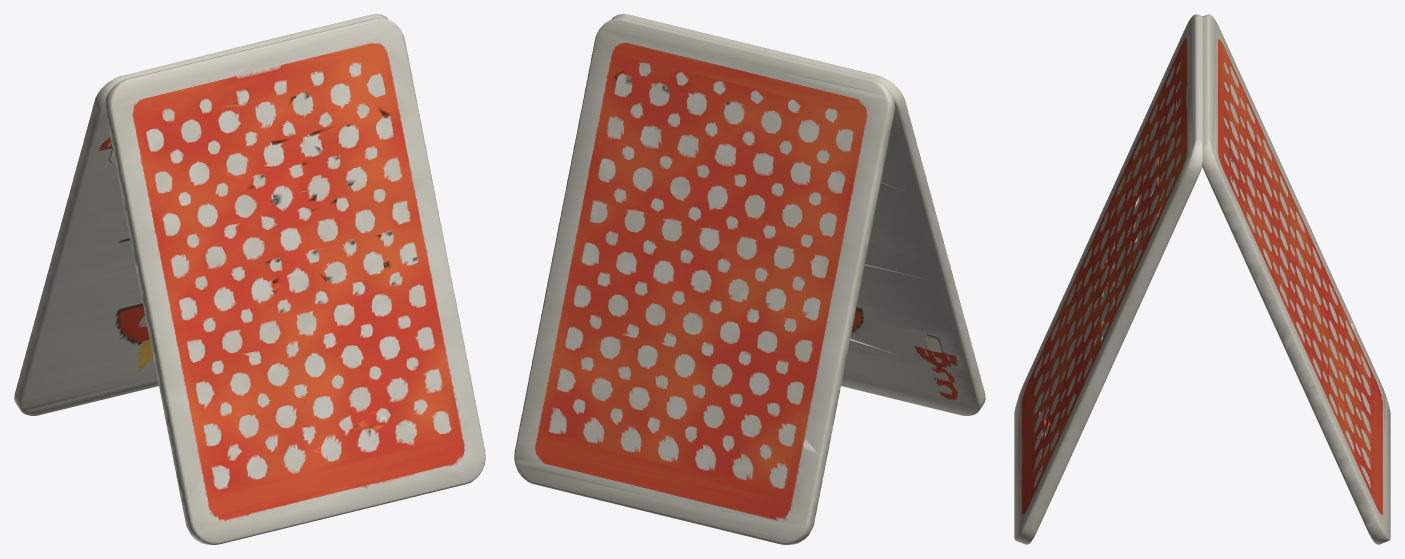
Rendered from card-house.glb.
The picture shows the model from 3 angles, left to right: view 1: azimuth 30°, elevation 25°; view 2: azimuth 150°, elevation 25°; view 3: azimuth 270°, elevation 25°; orthographic projection.
Visible parts, largest first — view 1: card_three, card_king; view 2: card_king, card_three; view 3: card_three, card_king.
Part boxes in pixels (left/top/right/bottom): card_three: left=105, top=18, right=485, bottom=544; card_king: left=14, top=14, right=387, bottom=415; card_king: left=514, top=18, right=894, bottom=544; card_three: left=612, top=14, right=985, bottom=415; card_three: left=1014, top=14, right=1202, bottom=544; card_king: left=1202, top=14, right=1390, bottom=544.
Bounding box in the file's own units: 3 × 3.92 × 3.3.
